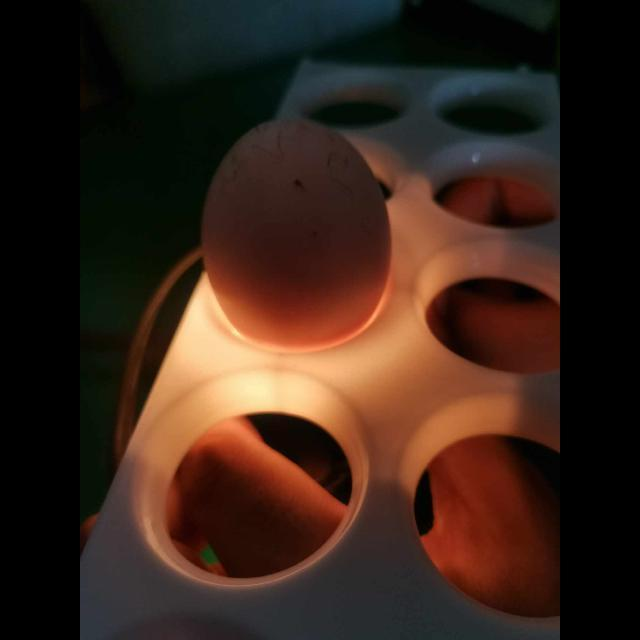A - Good: (194, 114, 401, 353)
